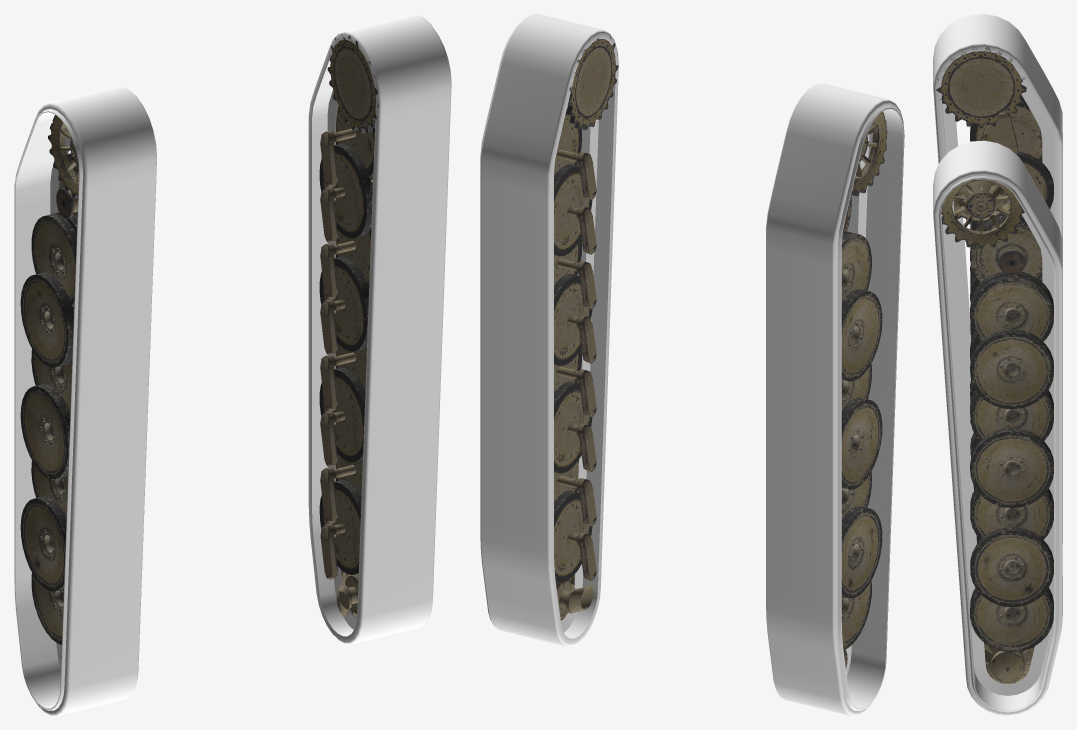
Rendered from Chassis.glb.
3 renders of one model, left to right at view 1: azimuth 30°, elevation 25°; view 2: azimuth 150°, elevation 25°; view 3: azimuth 270°, elevation 25°, orthographic. The views are drawn at different scales.
Parts seen in each view (by area): view 1: set_1_group_0, set_3_group_0, set_5_group_0, set_4_group_0, set_0_group_0, set_2_group_0; view 2: set_1_group_0, set_3_group_0, set_5_group_0, set_4_group_0, set_0_group_0, set_2_group_0; view 3: set_5_group_0, set_3_group_0, set_1_group_0, set_4_group_0, set_2_group_0, set_0_group_0.
Boxes of the visible parts, x1,y1,x2,y2 form: set_1_group_0: (14, 85, 156, 715); set_3_group_0: (308, 14, 451, 644); set_5_group_0: (319, 34, 378, 617); set_4_group_0: (20, 115, 78, 658); set_0_group_0: (74, 158, 156, 316); set_2_group_0: (371, 83, 451, 244); set_1_group_0: (766, 83, 904, 715); set_3_group_0: (480, 14, 618, 646); set_5_group_0: (554, 36, 618, 620); set_4_group_0: (841, 112, 887, 668); set_0_group_0: (847, 132, 904, 279); set_2_group_0: (567, 64, 618, 208); set_5_group_0: (941, 179, 1053, 684); set_3_group_0: (933, 140, 1062, 715); set_1_group_0: (933, 14, 1062, 440); set_4_group_0: (936, 47, 1053, 389); set_2_group_0: (933, 200, 961, 342); set_0_group_0: (933, 87, 957, 163).
Bounding box in the file's own units: 3.6 × 5.72 × 1.23.
6 materials, 2 textured.
